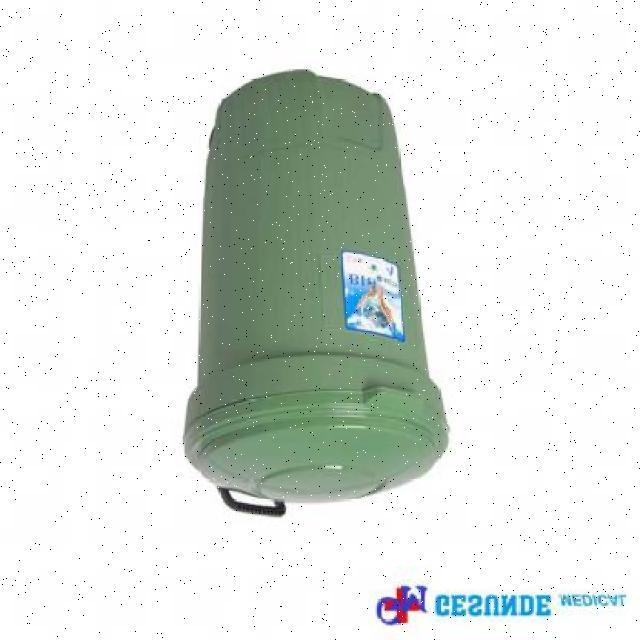garbage container: (163, 54, 465, 525)
